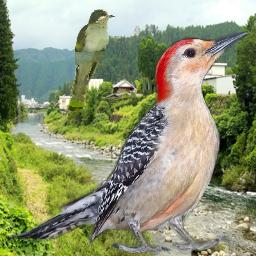Cuckoo: (67, 9, 116, 118)
Woodpecker: (4, 26, 255, 256)
